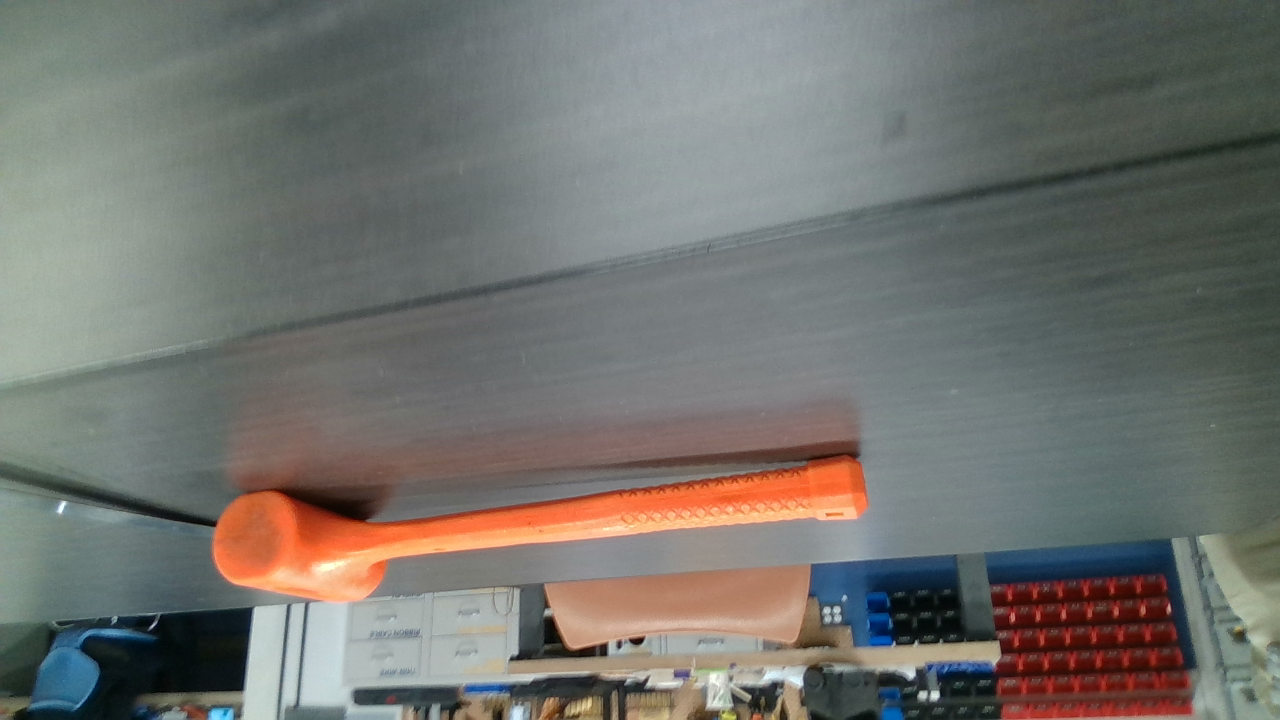Orange Hammer: (219, 450, 869, 602)
